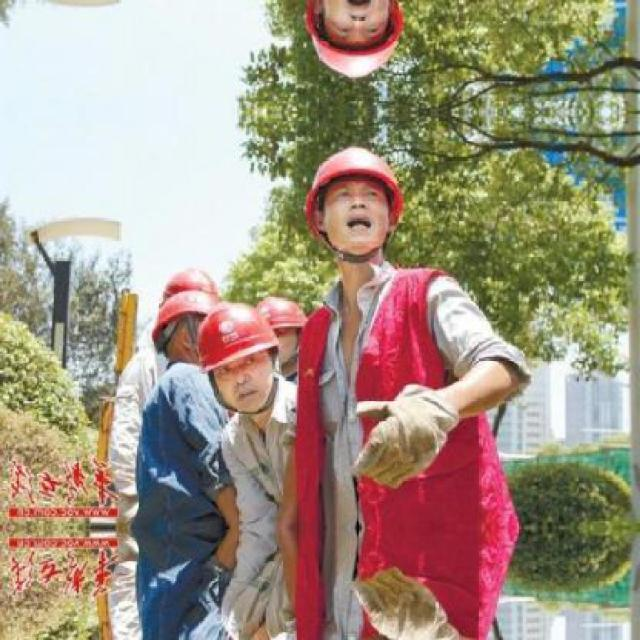safetyhelmet: (304, 148, 402, 236), (304, 0, 402, 78), (198, 304, 277, 372), (152, 291, 218, 350), (163, 268, 218, 300), (256, 297, 305, 329)
